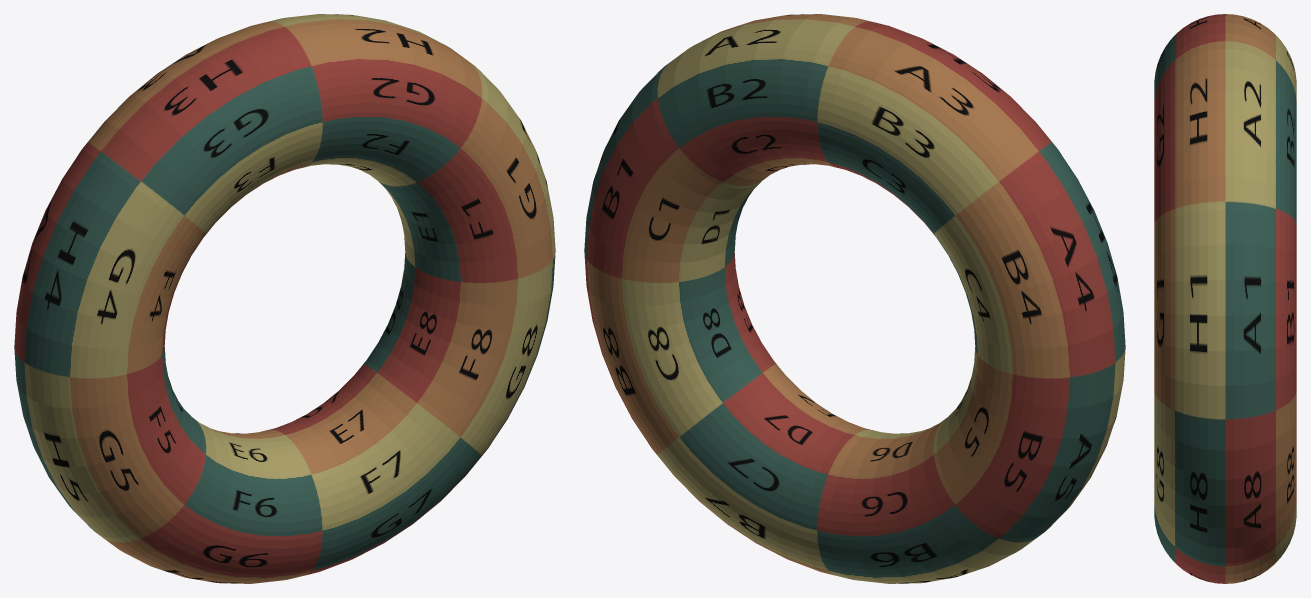
File: texture_torus_R24_r25.glb
3 renders of one model, left to right at view 1: azimuth 30°, elevation 25°; view 2: azimuth 150°, elevation 25°; view 3: azimuth 270°, elevation 25°, orthographic. The views are drawn at different scales.
Visible parts, largest first — view 1: world; view 2: world; view 3: world.
Boxes of the visible parts, left/top/right/bottom form: world: left=14, top=14, right=555, bottom=583; world: left=584, top=14, right=1125, bottom=583; world: left=1154, top=14, right=1296, bottom=583.
Size of the model in its own units: 34.67 by 34.6 by 8.65.
1 material, 1 textured.
